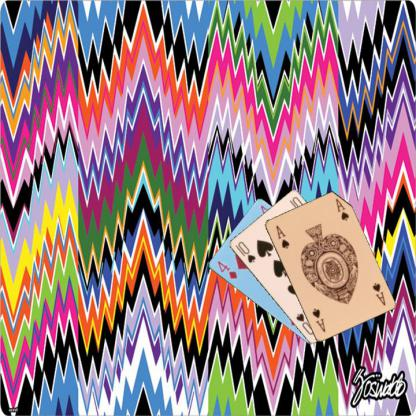10s: (235, 239, 257, 264)
4d: (214, 258, 238, 280)
As: (272, 222, 290, 250), (370, 280, 386, 307)
